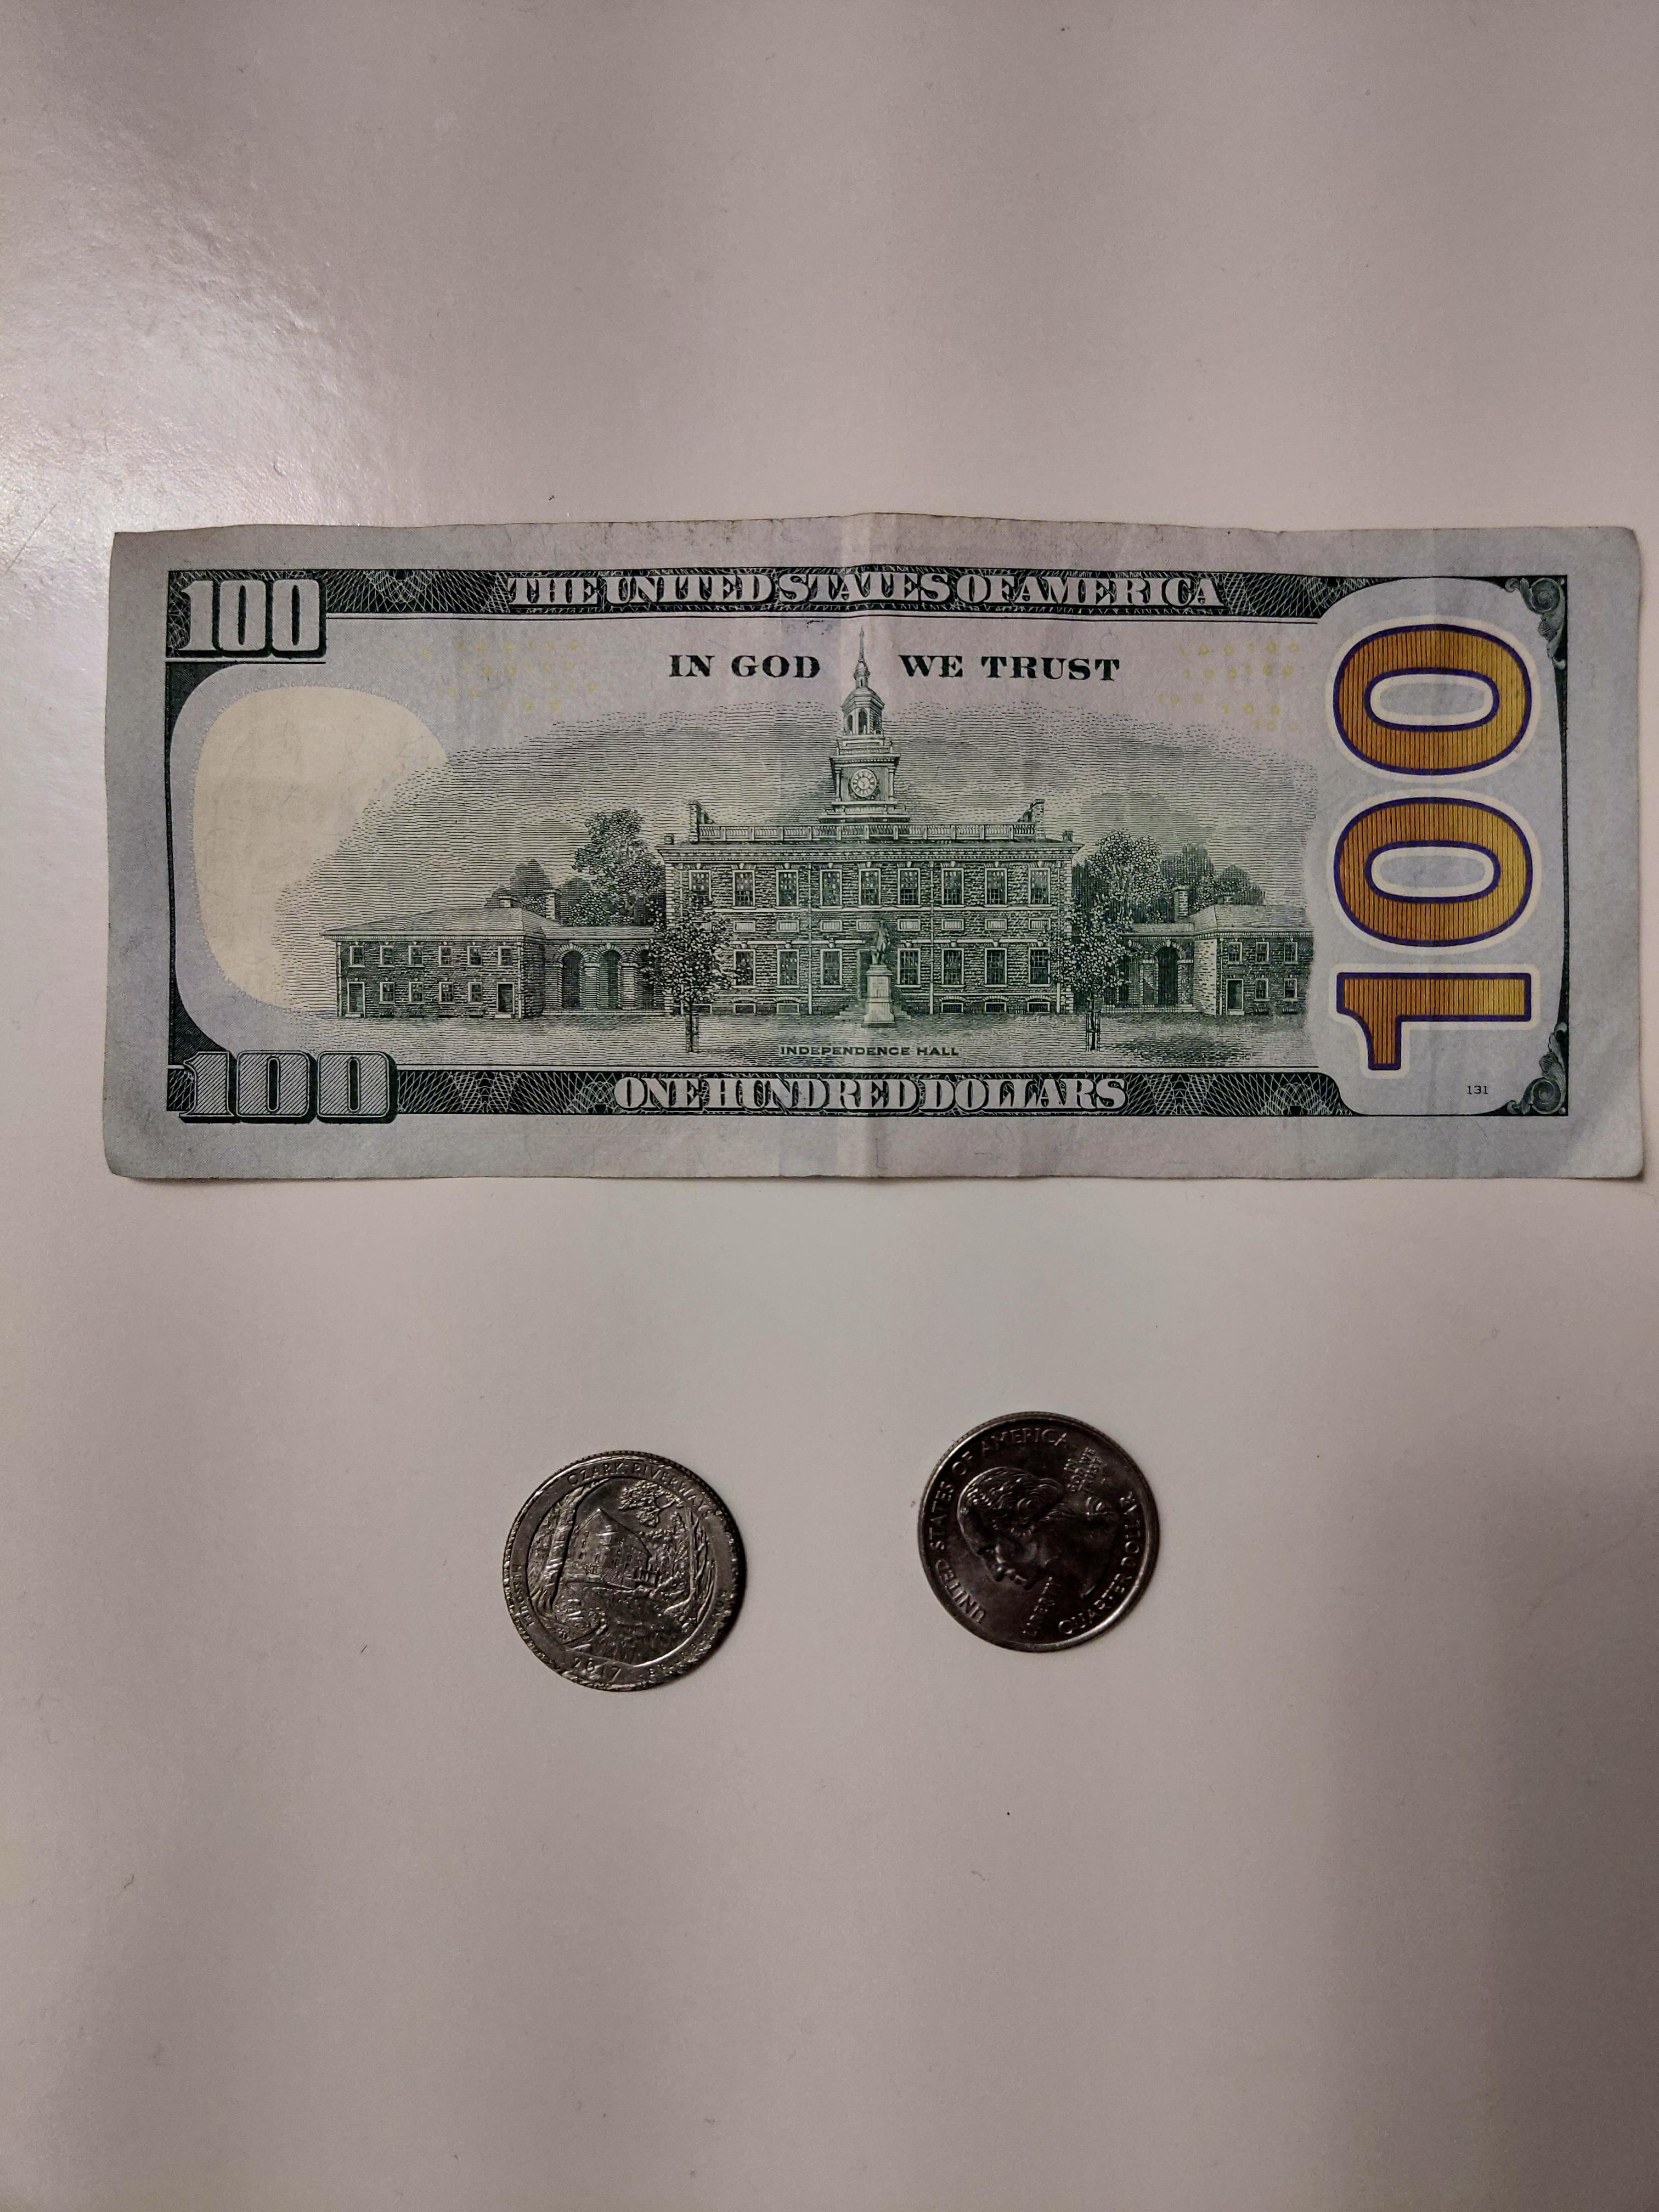HundredBill: (101, 507, 1647, 1188)
Quarter: (913, 1411, 1162, 1655), (504, 1449, 749, 1693)
